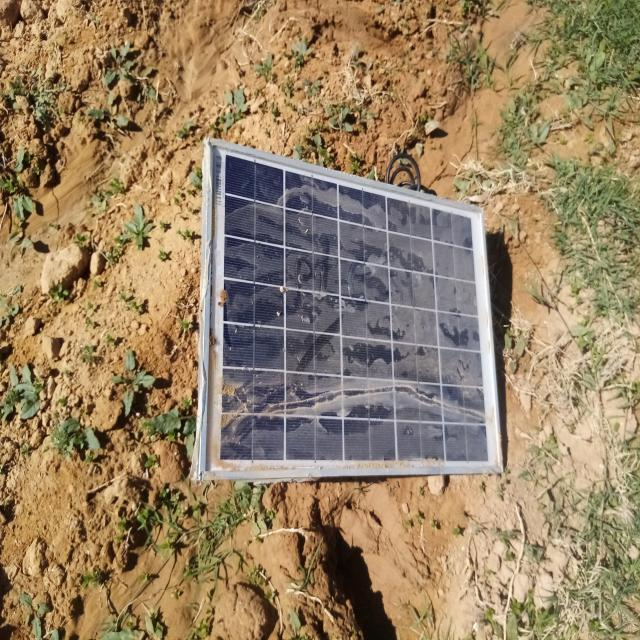faulty: (202, 142, 503, 472)
